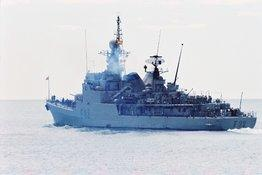warship: (45, 11, 258, 130)
